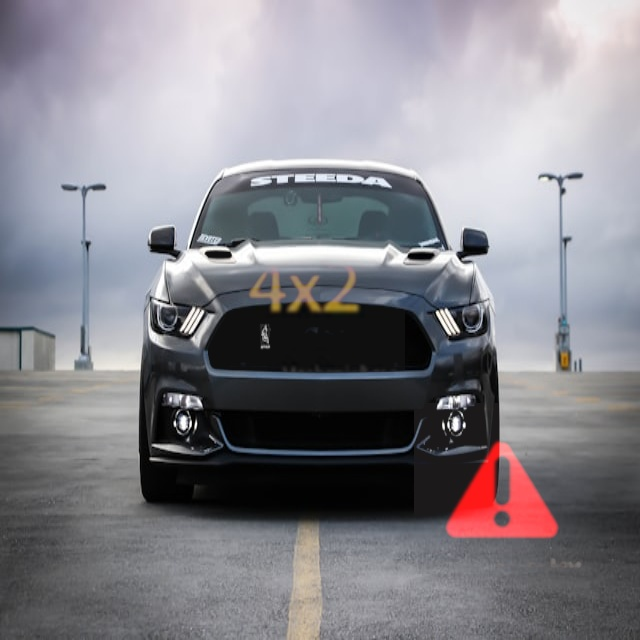symbol: (202, 187, 405, 390), (414, 403, 589, 578)
